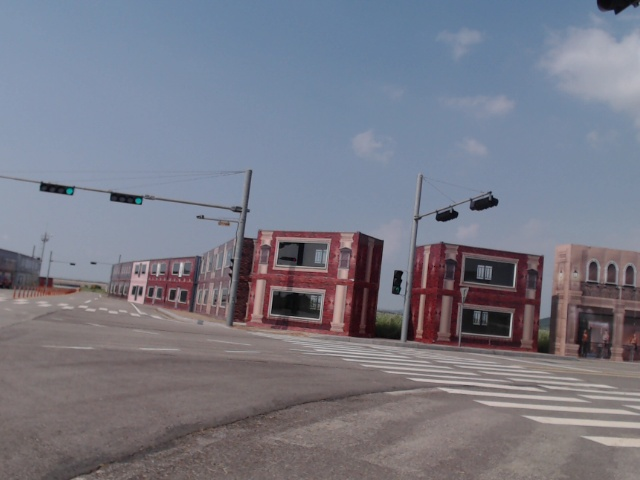straight_green_4: (41, 183, 75, 197), (111, 192, 143, 204)
